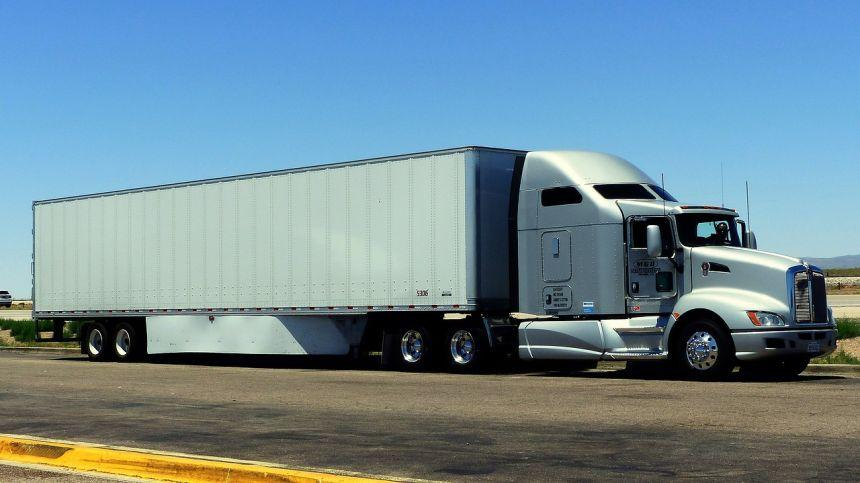卡车: (14, 141, 852, 381)
